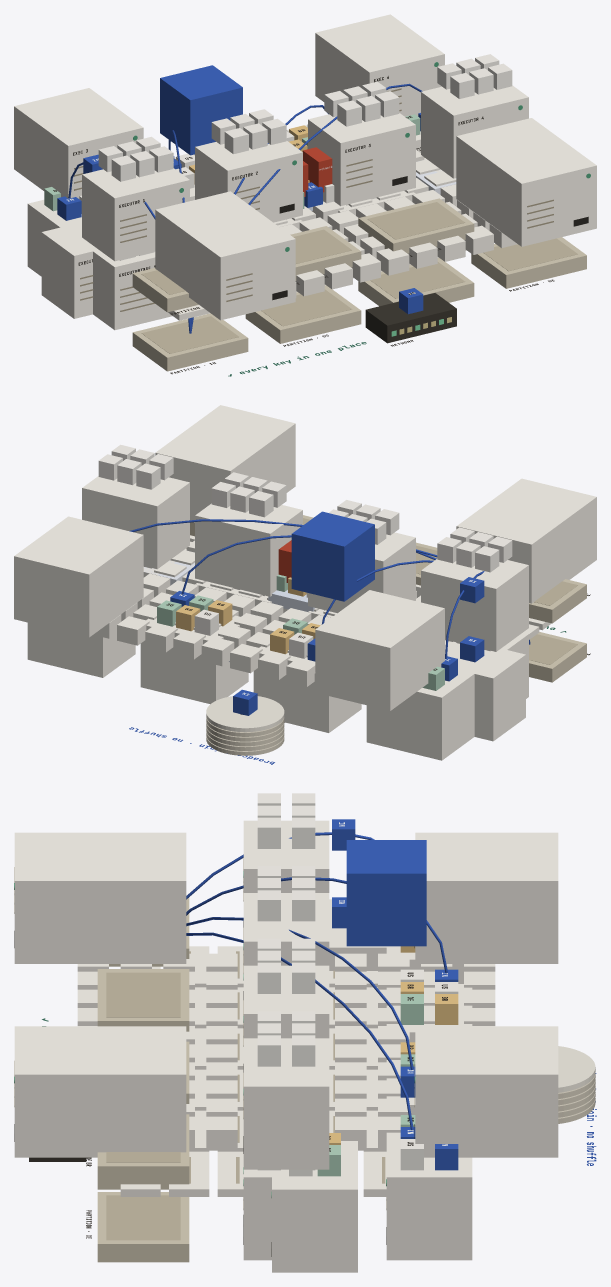
File: shuffle.glb
3 renders of one model, top to bottom at view 1: azimuth 30°, elevation 25°; view 2: azimuth 150°, elevation 25°; view 3: azimuth 270°, elevation 25°, orthographic. The views are drawn at different scales.
Parts seen in each view (by area): view 1: o1159, o1167, o335, o319, o327, o780, o772, o343, o391, o764, o756, o881 (+40 smaller); view 2: o1175, o1183, o335, o319, o791, o343, o391, o756, o764, o1159, o807, o881 (+37 smaller); view 3: o756, o1159, o1183, o1175, o1167, o764, o343, o780, o889, o815, o391, o772 (+33 smaller).
Part boxes in pixels (bbox=[...]): o1159: bbox=[188, 215, 295, 320]; o1167: bbox=[489, 141, 596, 246]; o335: bbox=[308, 113, 415, 206]; o319: bbox=[82, 168, 189, 261]; o327: bbox=[195, 141, 302, 222]; o780: bbox=[337, 31, 444, 116]; o772: bbox=[35, 108, 143, 198]; o343: bbox=[421, 85, 528, 178]; o391: bbox=[160, 65, 242, 155]; o764: bbox=[456, 118, 563, 222]; o756: bbox=[155, 191, 262, 292]; o881: bbox=[41, 222, 96, 318]; o1175: bbox=[315, 606, 422, 710]; o1183: bbox=[14, 533, 121, 637]; o335: bbox=[195, 503, 302, 596]; o319: bbox=[421, 559, 528, 651]; o791: bbox=[366, 670, 474, 760]; o343: bbox=[82, 476, 189, 569]; o391: bbox=[291, 511, 374, 601]; o756: bbox=[456, 502, 564, 603]; o764: bbox=[155, 429, 263, 520]; o1159: bbox=[489, 478, 596, 579]; o807: bbox=[140, 615, 248, 704]; o881: bbox=[445, 645, 525, 741]; o756: bbox=[100, 832, 186, 963]; o1159: bbox=[14, 832, 100, 963]; o1183: bbox=[472, 1026, 558, 1157]; o1175: bbox=[472, 832, 558, 963]; o1167: bbox=[14, 1026, 100, 1157]; o764: bbox=[100, 1026, 186, 1152]; o343: bbox=[243, 1038, 329, 1169]; o780: bbox=[415, 1026, 500, 1157]; o889: bbox=[272, 1141, 357, 1272]; o815: bbox=[386, 1132, 472, 1260]; o391: bbox=[346, 840, 426, 946]; o772: bbox=[415, 832, 500, 963].
Bounding box in the file's own units: 24 × 8.8 × 20.37.
